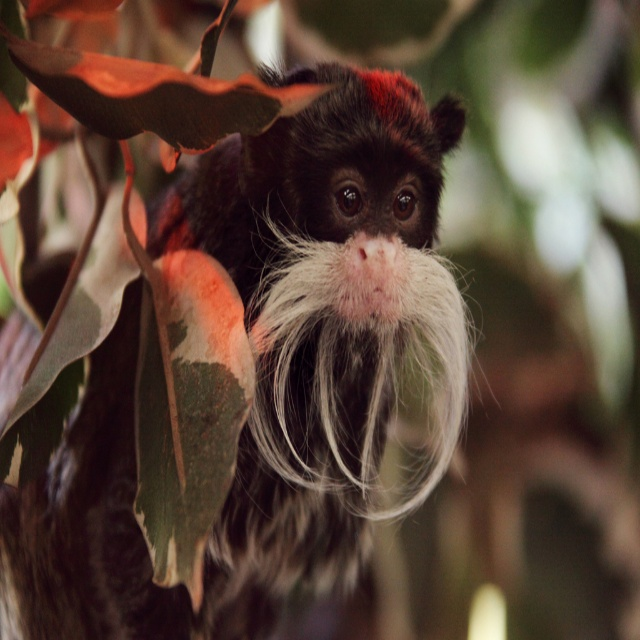Monkey: (0, 45, 502, 640)
